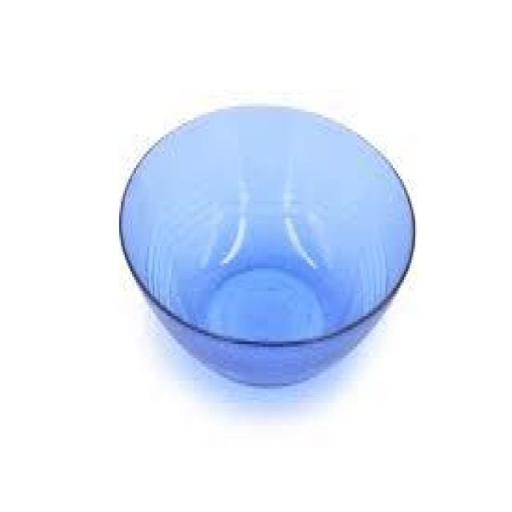glass: (108, 86, 430, 398)
